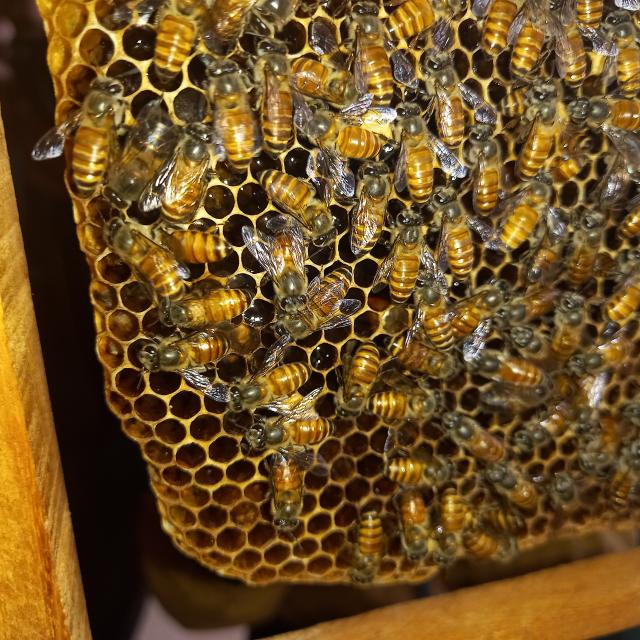honeybee: (54, 63, 123, 205), (256, 264, 363, 342), (100, 218, 195, 303), (477, 170, 564, 256), (348, 1, 410, 115), (252, 169, 340, 246), (238, 221, 314, 310), (540, 0, 610, 91), (427, 184, 490, 285), (207, 57, 261, 174), (107, 107, 175, 198), (163, 115, 218, 222), (256, 40, 306, 156), (298, 112, 397, 168), (214, 359, 321, 407), (420, 47, 470, 149), (396, 104, 448, 201), (337, 160, 388, 256), (506, 93, 562, 176), (141, 328, 233, 374), (448, 277, 512, 341), (260, 445, 308, 530), (164, 285, 250, 331), (475, 340, 551, 392), (148, 0, 194, 83), (412, 275, 459, 354), (388, 0, 465, 46), (292, 56, 365, 104), (567, 91, 640, 138), (387, 209, 421, 308), (443, 408, 509, 459), (604, 7, 640, 100), (335, 341, 376, 422), (510, 0, 548, 87), (371, 384, 452, 424), (473, 110, 505, 211), (395, 489, 435, 569), (595, 144, 640, 213), (249, 412, 336, 446), (158, 227, 228, 266), (582, 334, 640, 379), (381, 456, 448, 494), (488, 455, 536, 508), (601, 266, 640, 331), (464, 528, 524, 570), (552, 292, 588, 360), (206, 0, 250, 53), (574, 209, 602, 291), (352, 508, 381, 586), (439, 496, 471, 555), (614, 443, 640, 514), (482, 0, 508, 58), (567, 0, 605, 31), (618, 197, 640, 246)
